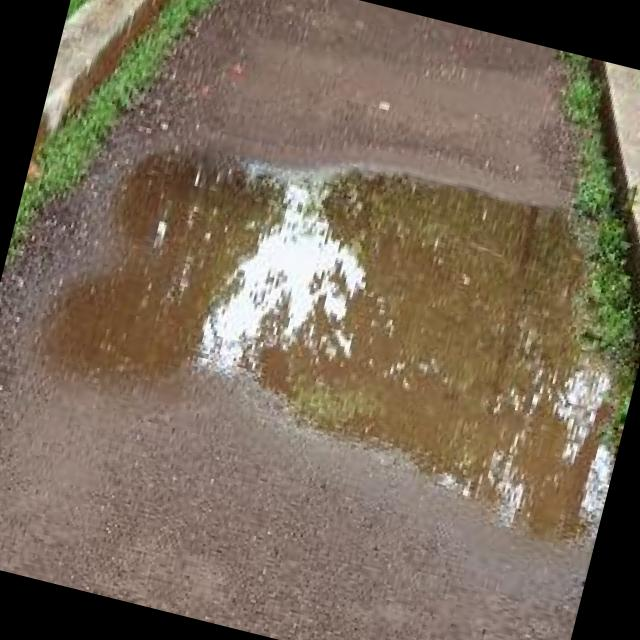waterlogging: (14, 72, 608, 526)
